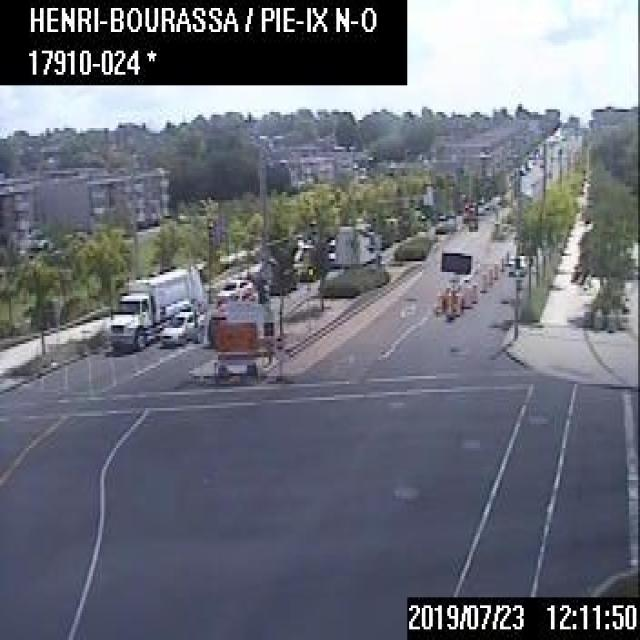construction: (205, 296, 271, 384), (438, 248, 471, 315), (506, 255, 525, 274), (450, 288, 458, 312), (444, 288, 450, 317), (435, 288, 441, 312)
vehicle: (107, 264, 202, 347), (334, 224, 380, 264), (158, 310, 202, 345), (214, 278, 251, 302)
